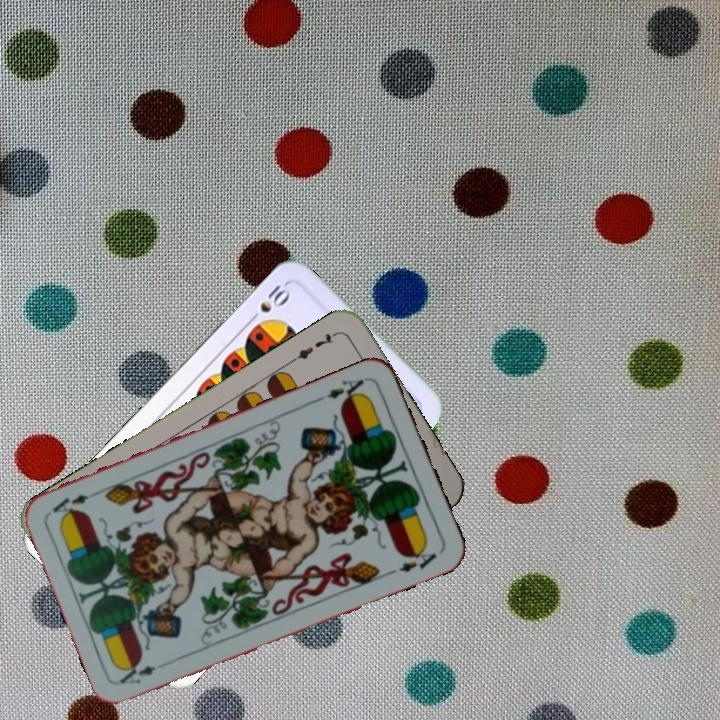E7: (288, 327, 341, 365)
EA: (314, 373, 370, 406), (115, 660, 158, 687)
S10: (244, 278, 294, 326)
